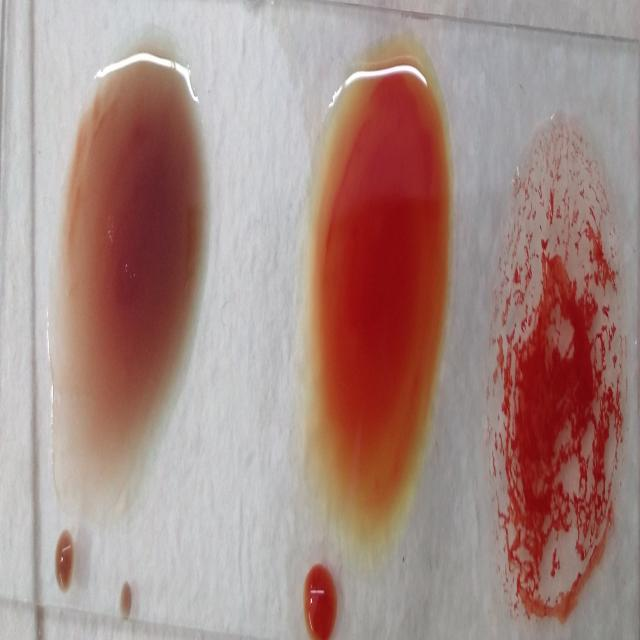D: (489, 110, 628, 626)
